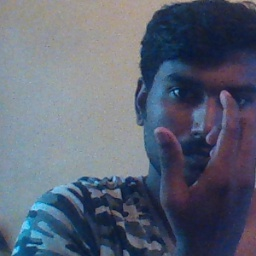U: (142, 83, 256, 231)
